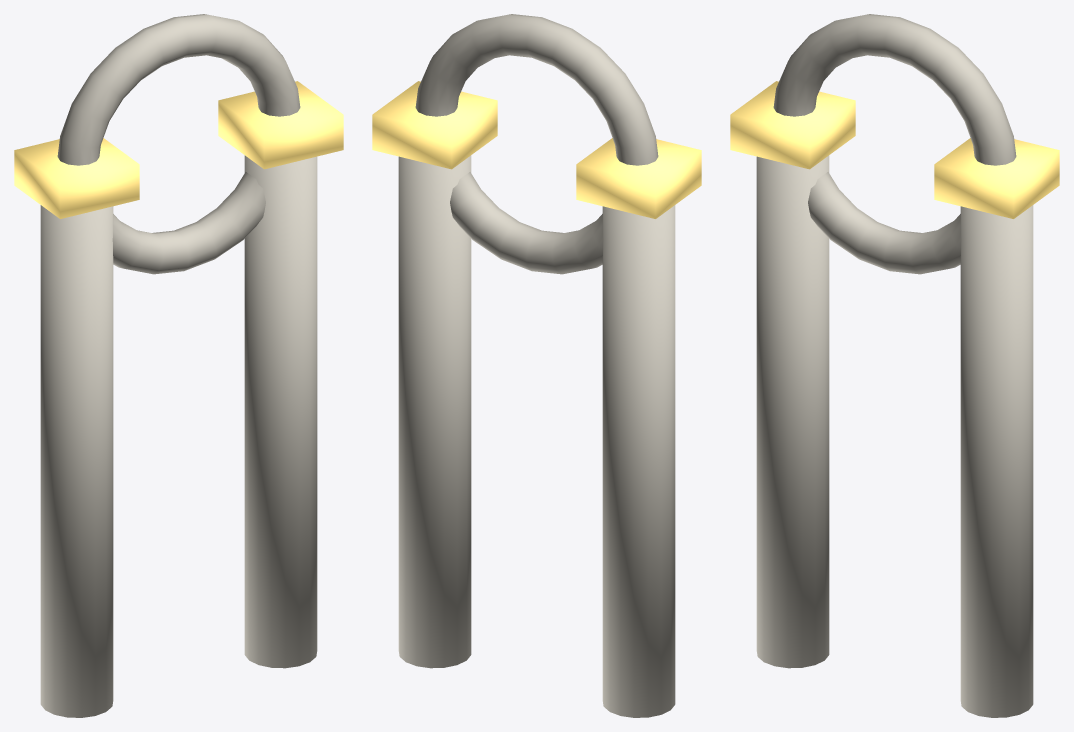
Rendered from arch_haram.glb.
3 renders of one model, left to right at view 1: azimuth 30°, elevation 25°; view 2: azimuth 150°, elevation 25°; view 3: azimuth 330°, elevation 25°, orthographic.
Parts seen in each view (by area): view 1: pillar; view 2: pillar; view 3: pillar.
Boxes of the visible parts, box(x1,y1,x2,y2) form: pillar: box(14, 14, 343, 717); pillar: box(372, 14, 701, 717); pillar: box(730, 14, 1059, 717).
Bounding box in the file's own units: 2.5 × 5.56 × 0.7.
